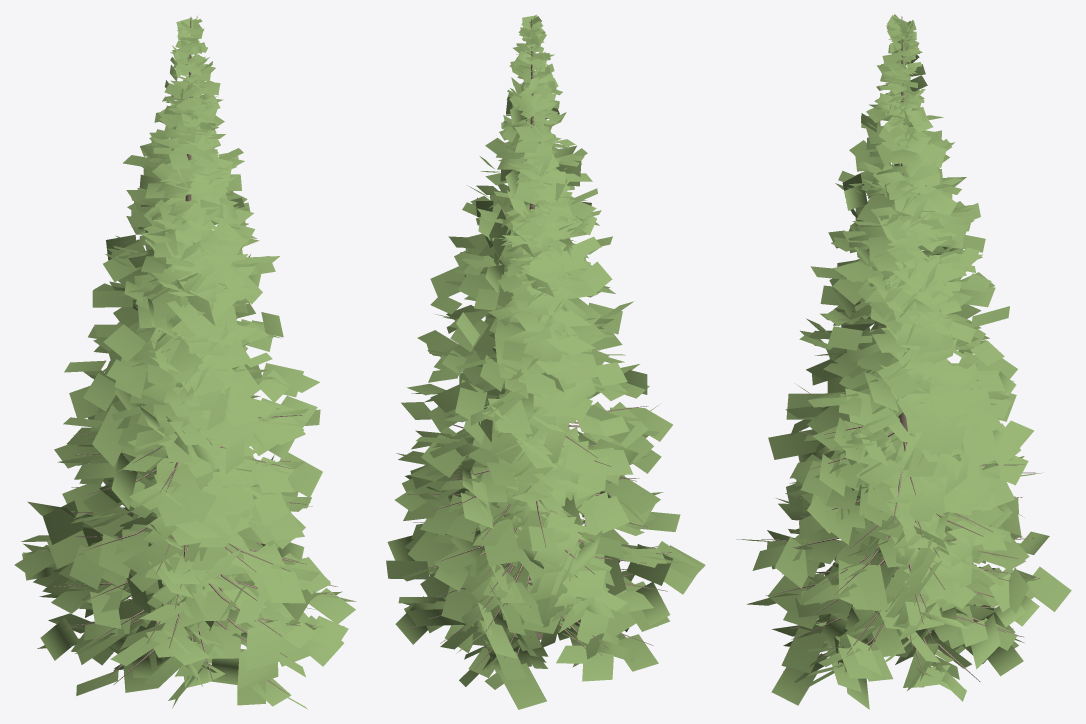
The model's file is Conifer_1_lod1.glb.
The picture shows the model from 3 angles, left to right: view 1: azimuth 30°, elevation 25°; view 2: azimuth 150°, elevation 25°; view 3: azimuth 270°, elevation 25°; orthographic projection. The views are drawn at different scales.
Visible parts, largest first — view 1: Conifer_1_lod1; view 2: Conifer_1_lod1; view 3: Conifer_1_lod1.
Part boxes in pixels (<box>): Conifer_1_lod1: <box>14,16,356,709</box>; Conifer_1_lod1: <box>386,14,705,709</box>; Conifer_1_lod1: <box>736,14,1071,709</box>.
Size of the model in its own units: 6.27 by 14.66 by 6.79.
